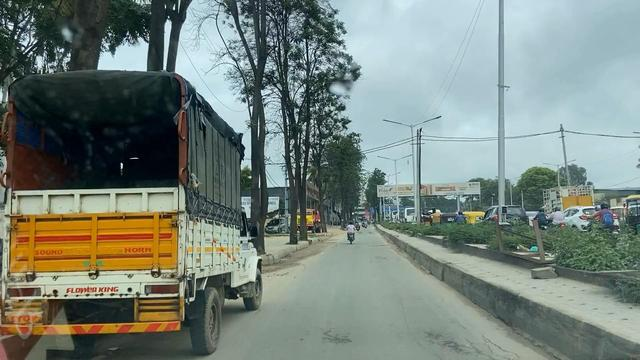HMV: (8, 76, 216, 350)
RoadDamages: (427, 324, 516, 360), (319, 323, 355, 349)
